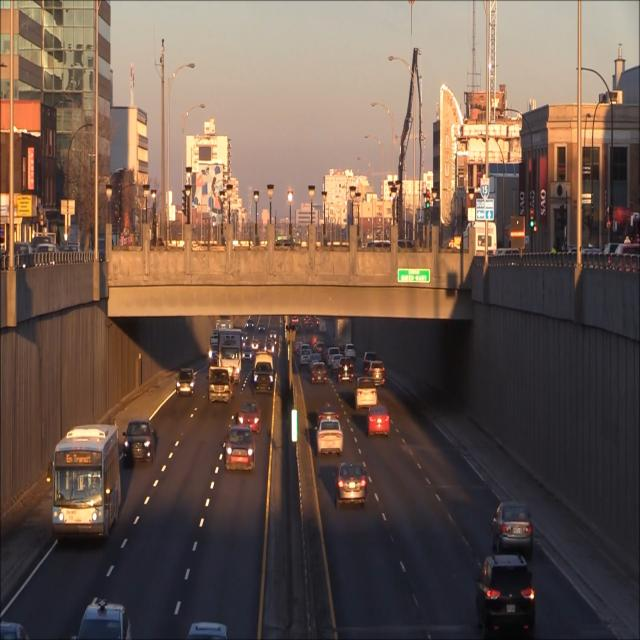Car: (51, 423, 122, 544), (476, 557, 538, 636), (493, 498, 536, 557), (124, 412, 154, 470), (335, 461, 368, 509), (226, 427, 256, 473), (316, 420, 344, 454), (254, 352, 275, 394), (237, 398, 262, 433), (367, 402, 390, 438), (209, 370, 233, 403), (354, 377, 378, 410), (176, 366, 198, 399), (315, 402, 339, 425), (337, 357, 355, 383), (369, 362, 386, 386), (311, 362, 328, 384)
